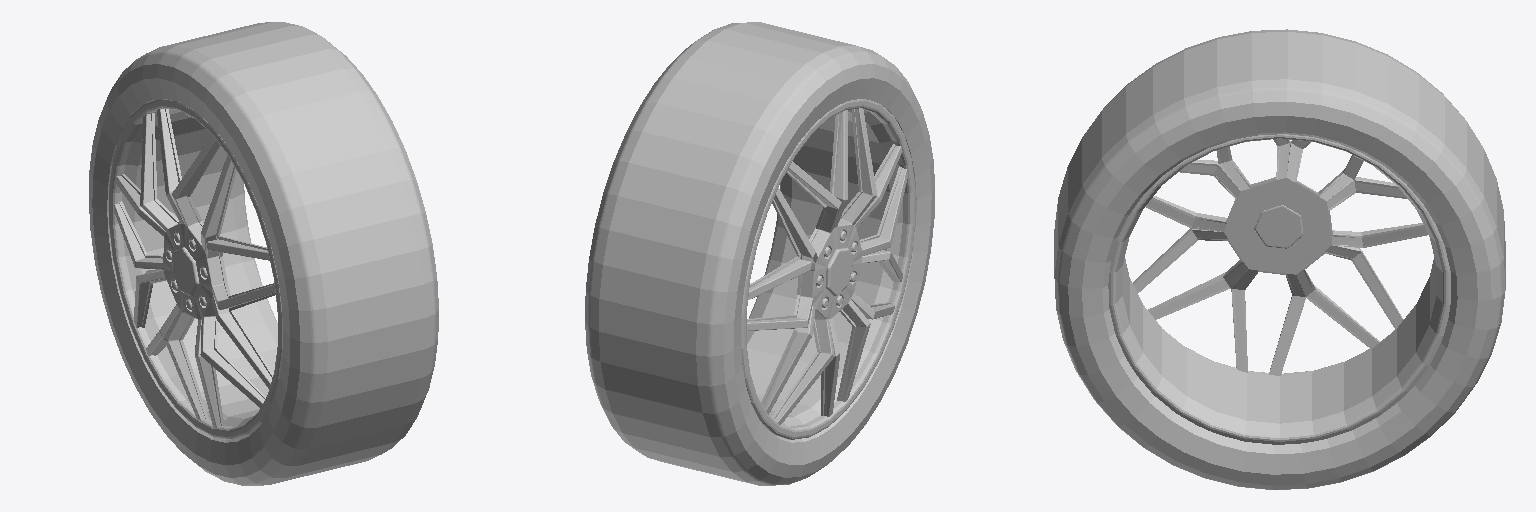
File: ciudad_llanta.obj
3 renders of one model, left to right at view 1: azimuth 30°, elevation 25°; view 2: azimuth 150°, elevation 25°; view 3: azimuth 270°, elevation 25°, orthographic.
Parts seen in each view (by area): view 1: Tyre:pCylinder24; view 2: Tyre:pCylinder24; view 3: Tyre:pCylinder24.
Part boxes in pixels (x1,y1,x2,y2): Tyre:pCylinder24: (89,22,438,485); Tyre:pCylinder24: (585,22,934,485); Tyre:pCylinder24: (1054,29,1505,489).
Size of the model in its own units: 0.9044 by 2.2 by 2.2.